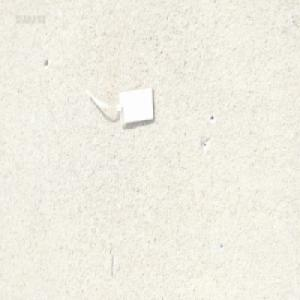LuggageTag: (84, 71, 156, 129)
